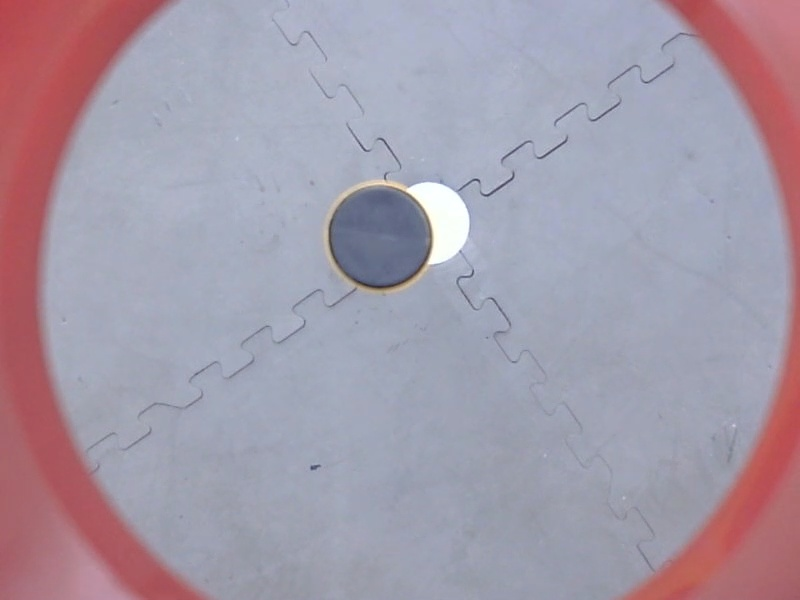tip: (318, 176, 441, 300)
